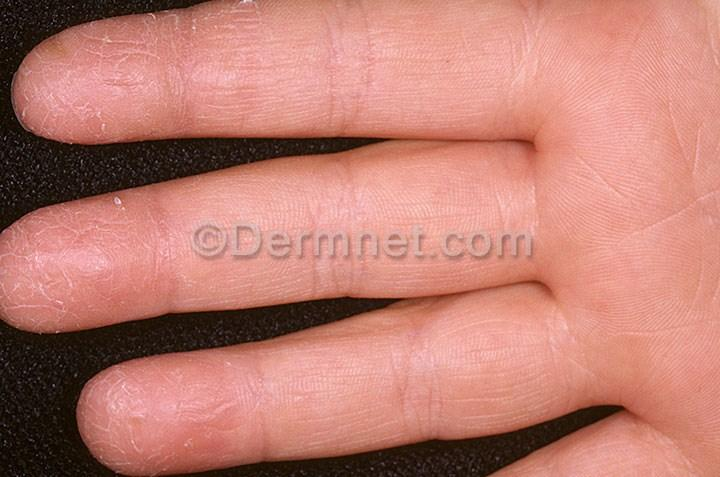Eczema: (174, 46, 233, 105), (19, 208, 61, 290), (127, 61, 194, 112), (55, 202, 109, 262), (89, 417, 147, 471), (119, 243, 179, 295), (23, 59, 79, 111), (63, 262, 125, 307), (82, 76, 139, 122), (230, 41, 278, 95), (21, 295, 81, 337), (109, 190, 158, 241), (0, 233, 26, 326), (147, 441, 221, 473), (197, 386, 246, 431), (50, 32, 102, 72), (31, 101, 89, 133), (144, 18, 187, 60), (155, 393, 199, 433), (184, 10, 236, 43), (94, 20, 133, 63), (95, 373, 134, 413), (116, 281, 175, 307), (187, 351, 231, 385), (133, 363, 175, 398), (229, 3, 279, 32), (234, 376, 267, 418), (129, 393, 164, 431), (189, 111, 231, 140), (230, 424, 266, 457), (211, 428, 241, 466), (162, 354, 191, 392), (137, 116, 186, 138), (224, 345, 265, 370), (92, 118, 133, 139), (232, 112, 259, 143), (69, 306, 133, 318), (78, 393, 92, 443)
